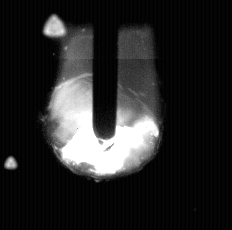arame: (93, 0, 118, 139)
poca: (47, 0, 161, 230)
